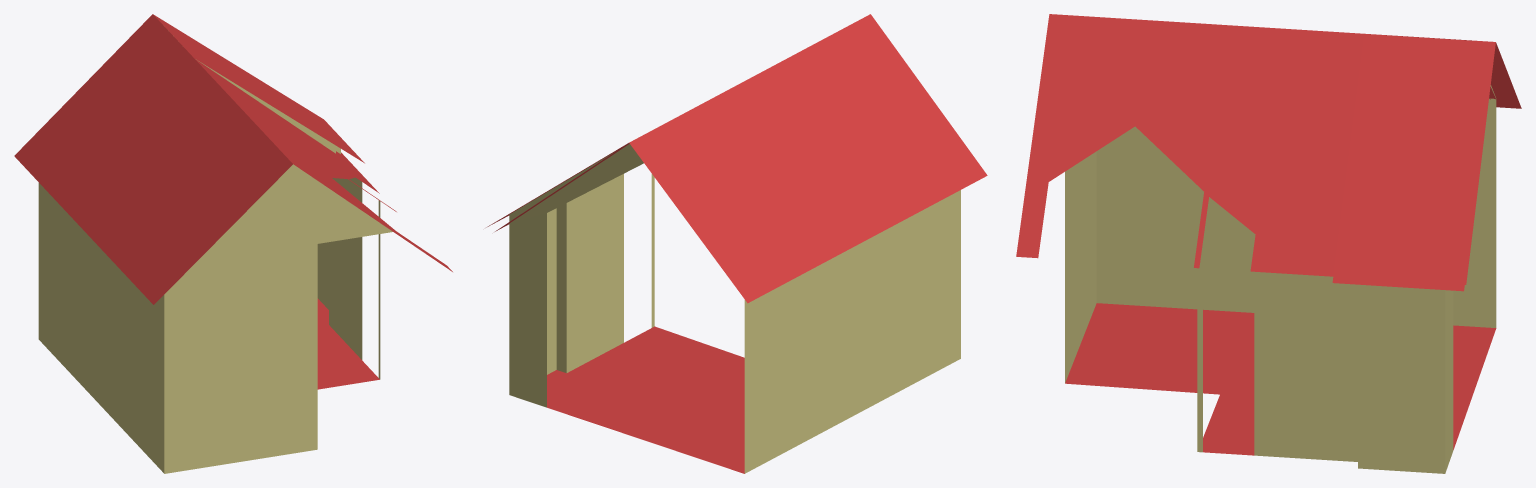
3 renders of one model, left to right at view 1: azimuth 30°, elevation 25°; view 2: azimuth 150°, elevation 25°; view 3: azimuth 270°, elevation 25°, orthographic. The views are drawn at different scales.
Size of the model in its own units: 15.26 by 16.96 by 13.02.
